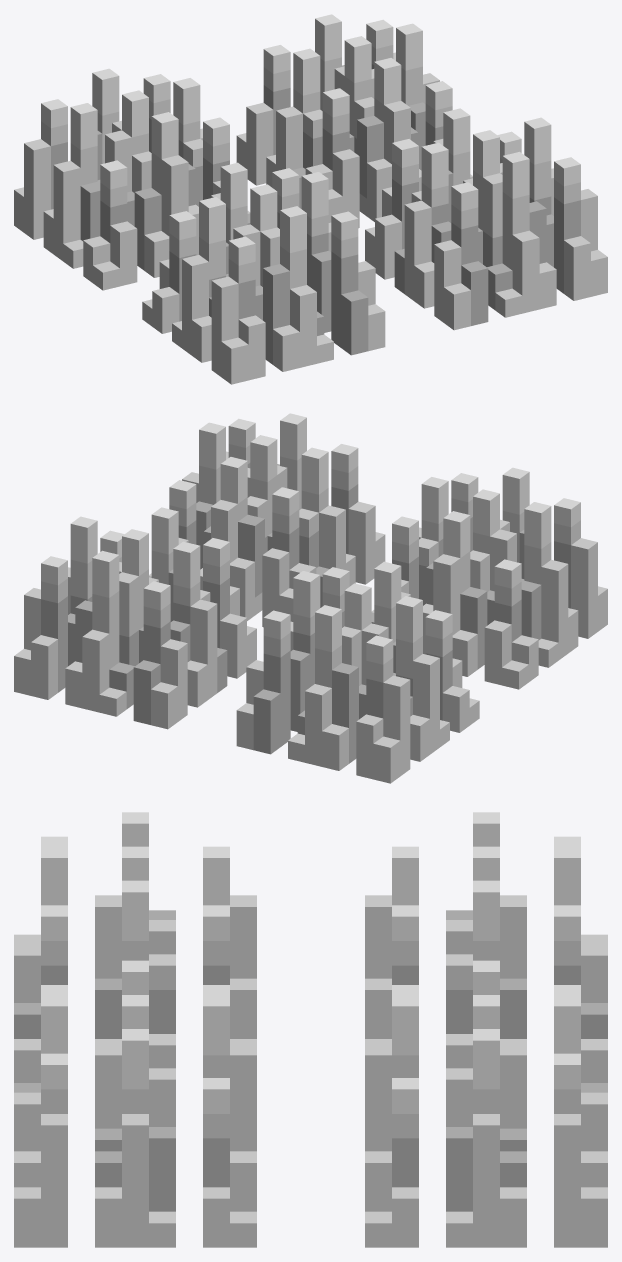
Rendered from pinchos.obj.
3 views of the same model, one above another, from view 1: azimuth 30°, elevation 25°; view 2: azimuth 150°, elevation 25°; view 3: azimuth 270°, elevation 25° (orthographic). The views are drawn at different scales.
Bounding box in the file's own units: 2.2 × 0.8 × 2.2.
Materials: 1 (1 with a texture image).
